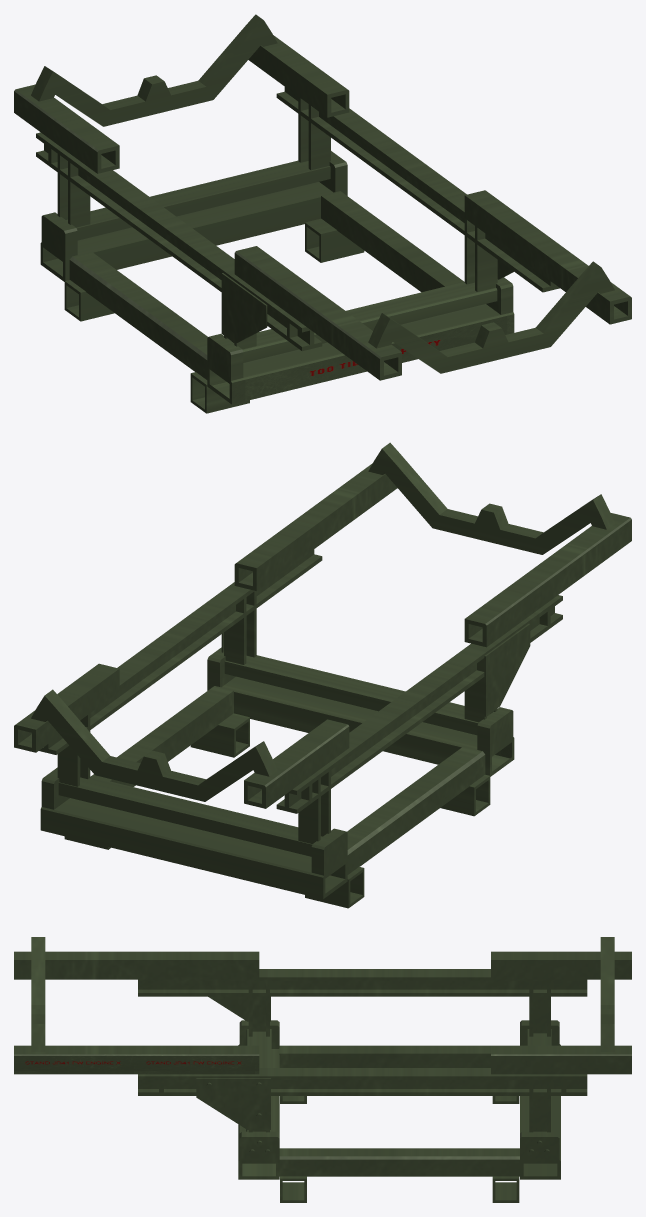
Rendered from EngineStand_UV.fbx.
3 views of the same model, one above another, from view 1: azimuth 30°, elevation 25°; view 2: azimuth 150°, elevation 25°; view 3: azimuth 270°, elevation 25° (orthographic). The views are drawn at different scales.
Parts seen in each view (by area): view 1: Stand; view 2: Stand; view 3: Stand.
Part boxes in pixels (box(x1,y1,x2,y2)): Stand: box(14, 14, 631, 413); Stand: box(14, 442, 631, 908); Stand: box(14, 937, 631, 1202).
Size of the model in its own units: 104 by 67.28 by 230.
